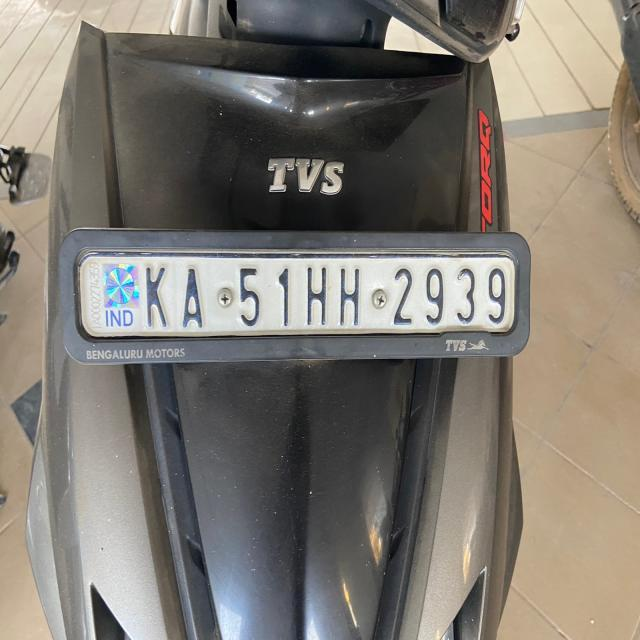1: (272, 262, 299, 338)
3: (453, 264, 479, 329)
5: (231, 258, 264, 330)
9: (419, 260, 449, 332), (483, 262, 512, 330)
A: (177, 259, 210, 333)
H: (334, 260, 365, 331), (302, 262, 329, 330)
K: (140, 260, 173, 334)
